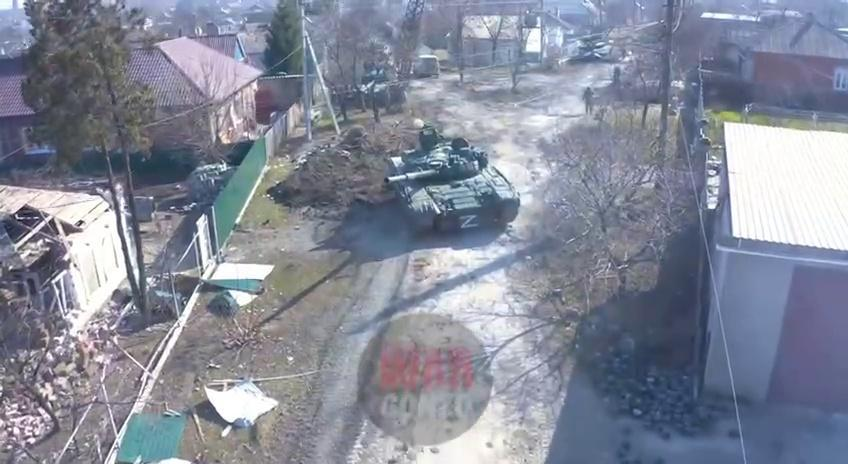tank: (383, 125, 521, 232)
